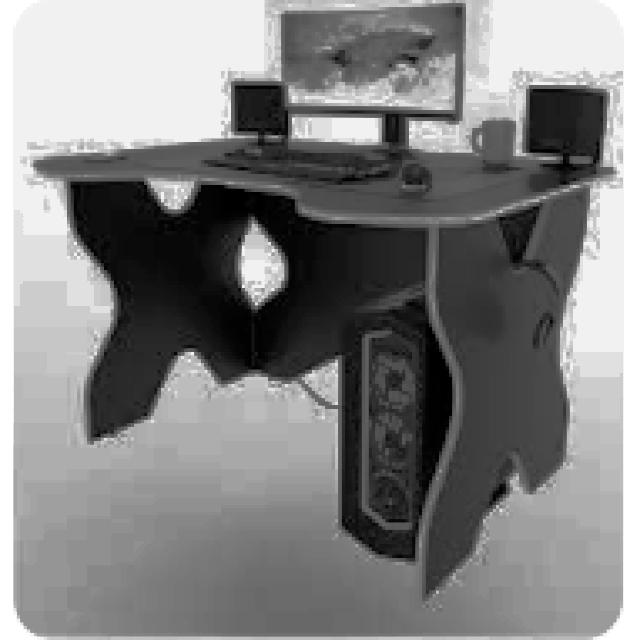table: (34, 132, 613, 598)
